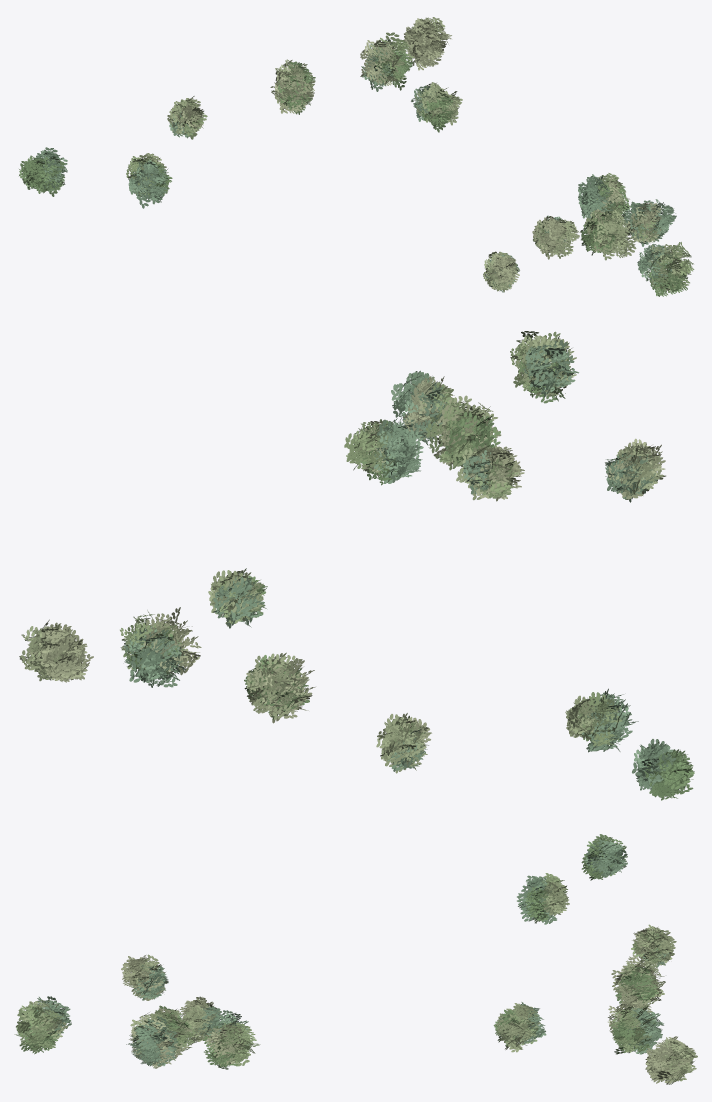
File: campus-tree-0_-2-middle.glb
3 views of the same model, one above another, from view 1: azimuth 30°, elevation 25°; view 2: azimuth 150°, elevation 25°; view 3: azimuth 270°, elevation 25° (orthographic). The views are drawn at different scales.
Visible parts, largest first — view 1: Campus leaf canopy; view 2: Campus leaf canopy; view 3: Campus leaf canopy.
Boxes of the visible parts, box(x1,y1,x2,y2) form: Campus leaf canopy: box(19, 17, 694, 296); Campus leaf canopy: box(19, 331, 694, 800); Campus leaf canopy: box(14, 834, 697, 1084).
Bounding box in the file's own units: 53.04 × 8.01 × 64.91.
Materials: 1 (1 with a texture image).
